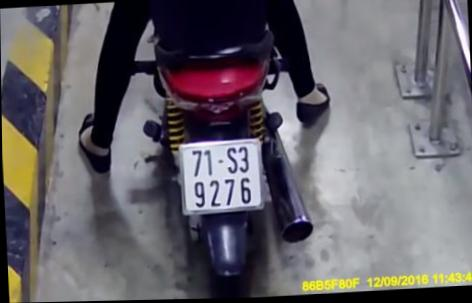LP: (178, 140, 264, 217)
